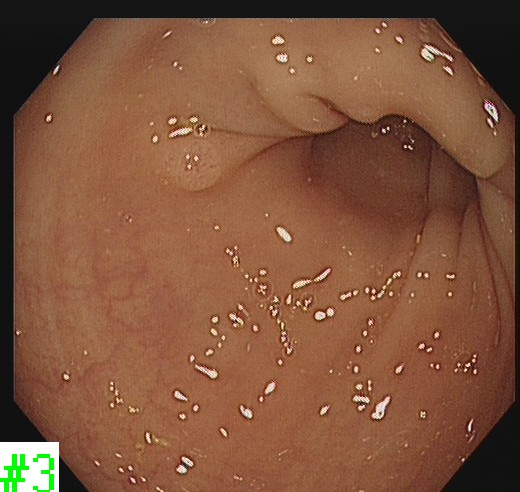adenoma: (159, 135, 222, 192)
